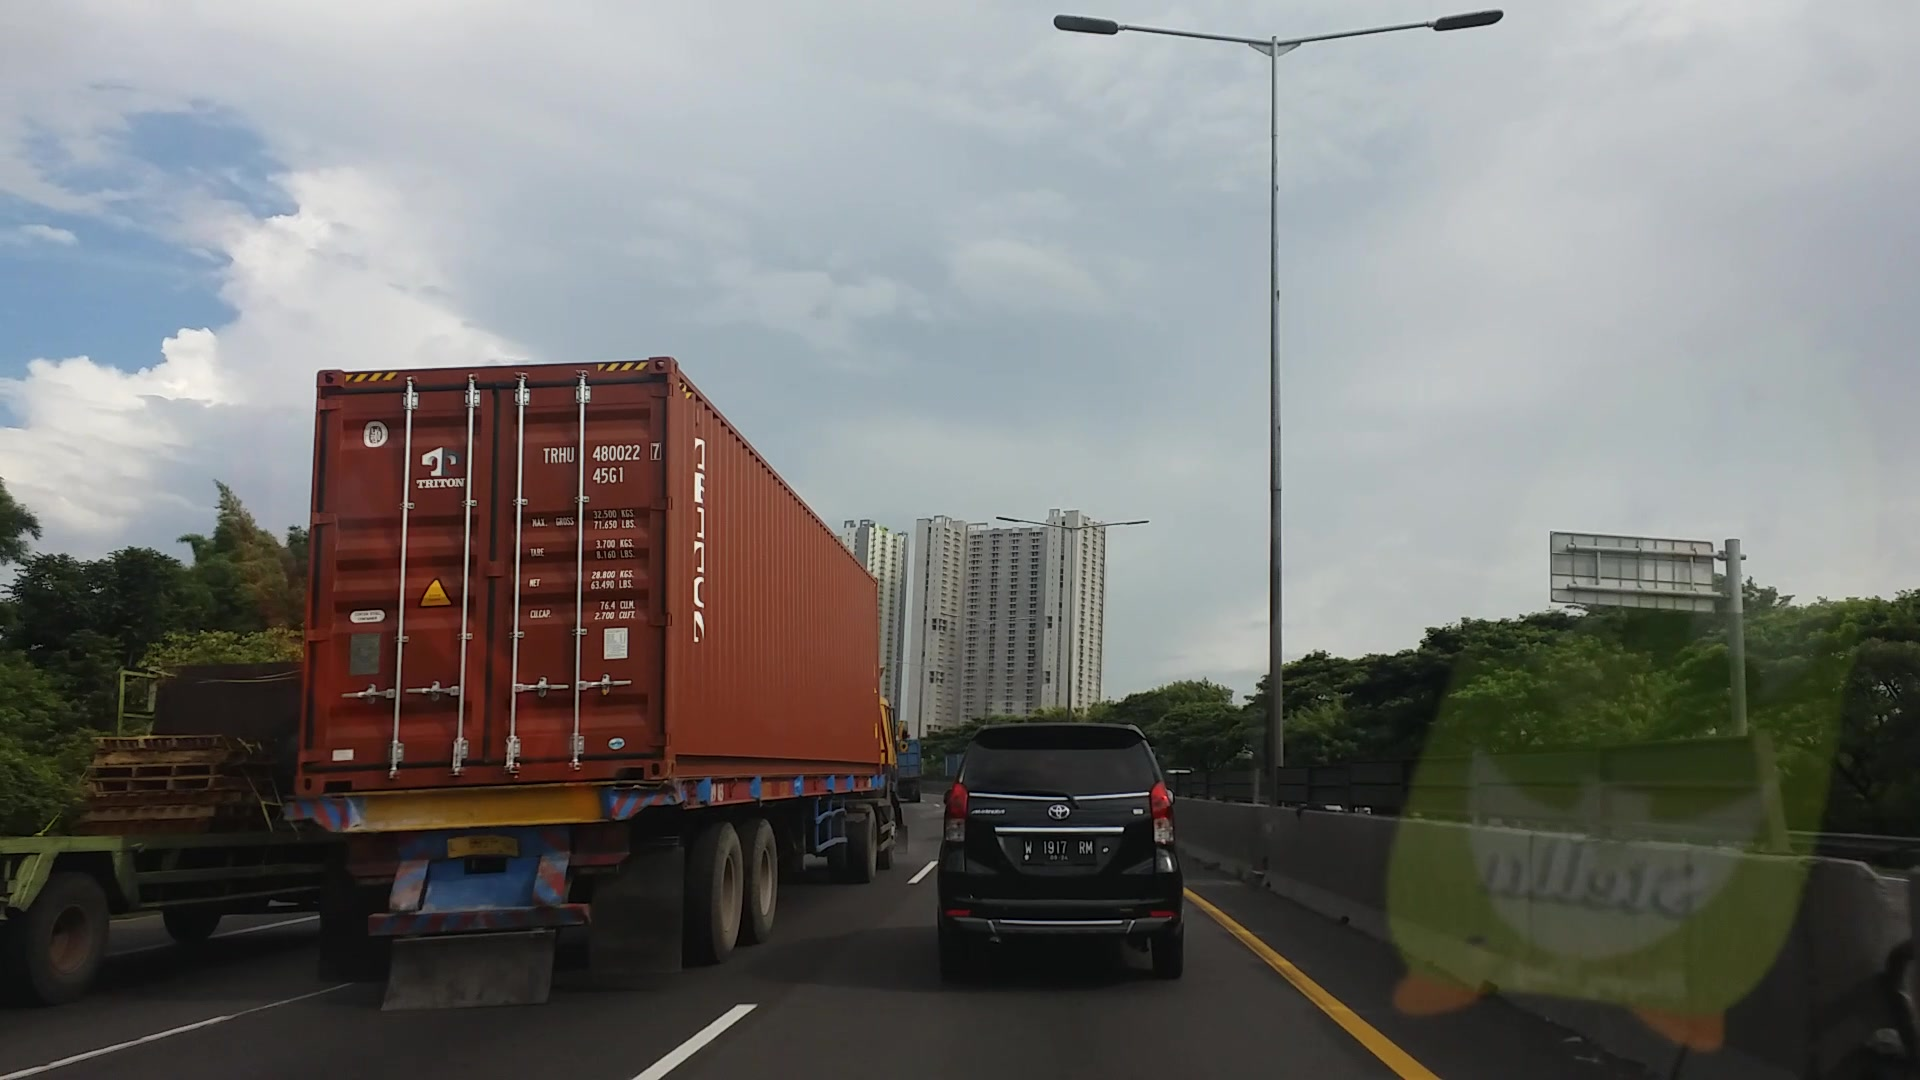plate_positive: (1021, 835, 1097, 866)
